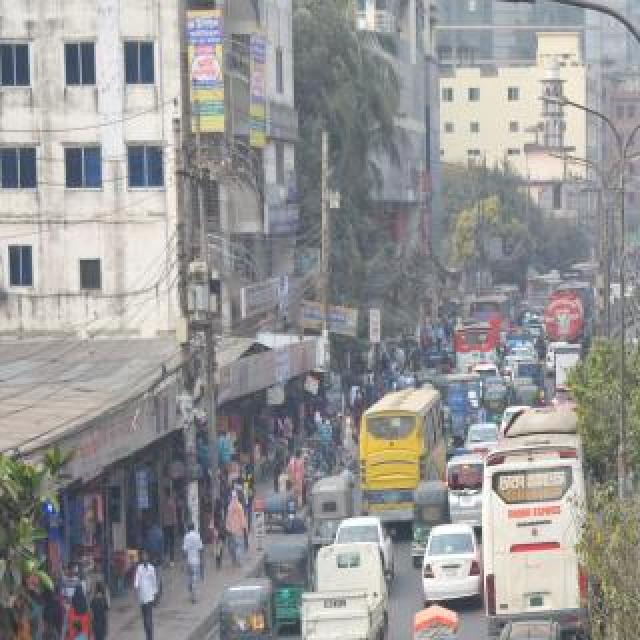bus: (480, 398, 600, 636), (357, 378, 447, 532), (453, 318, 497, 378), (468, 293, 514, 347), (478, 283, 522, 321), (527, 274, 563, 308), (563, 261, 605, 281), (638, 270, 640, 326)
car: (422, 523, 488, 613), (330, 513, 396, 577), (488, 614, 580, 640), (465, 413, 501, 463), (549, 380, 581, 410), (469, 360, 501, 390), (498, 406, 532, 434), (544, 340, 570, 368), (498, 353, 522, 381), (628, 400, 640, 456), (509, 344, 535, 358)
motorbike: (499, 326, 509, 356)
truck: (544, 279, 592, 345)
van: (296, 536, 396, 640), (447, 448, 487, 530), (432, 370, 482, 428), (516, 360, 550, 406), (555, 342, 585, 392), (503, 326, 537, 354)
